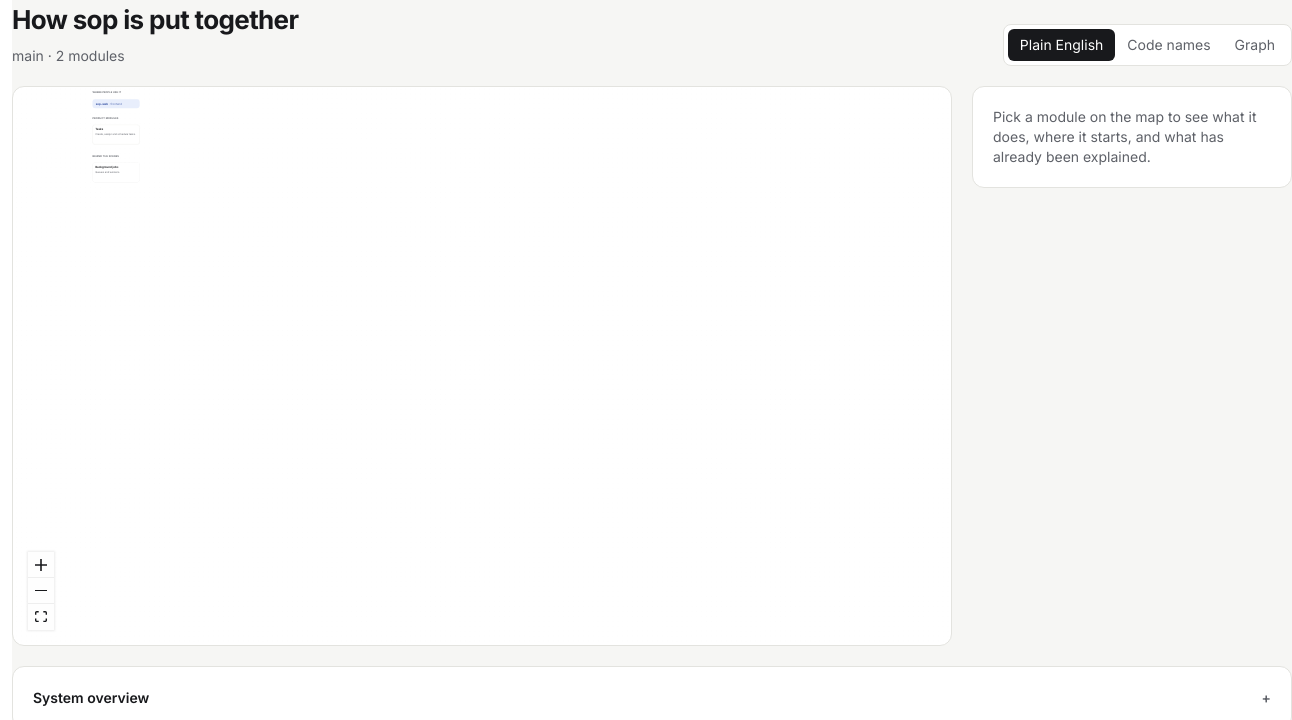
Scenario: title, subtitle and code-names toggle
Check: the heading "How sop is put together" is shown, box [12, 0, 298, 39]
Check: the text "main · 2 modules" is shown, box [12, 47, 125, 64]
Click the radio button labelled "Code names" at [1169, 45], box [1115, 29, 1223, 61]
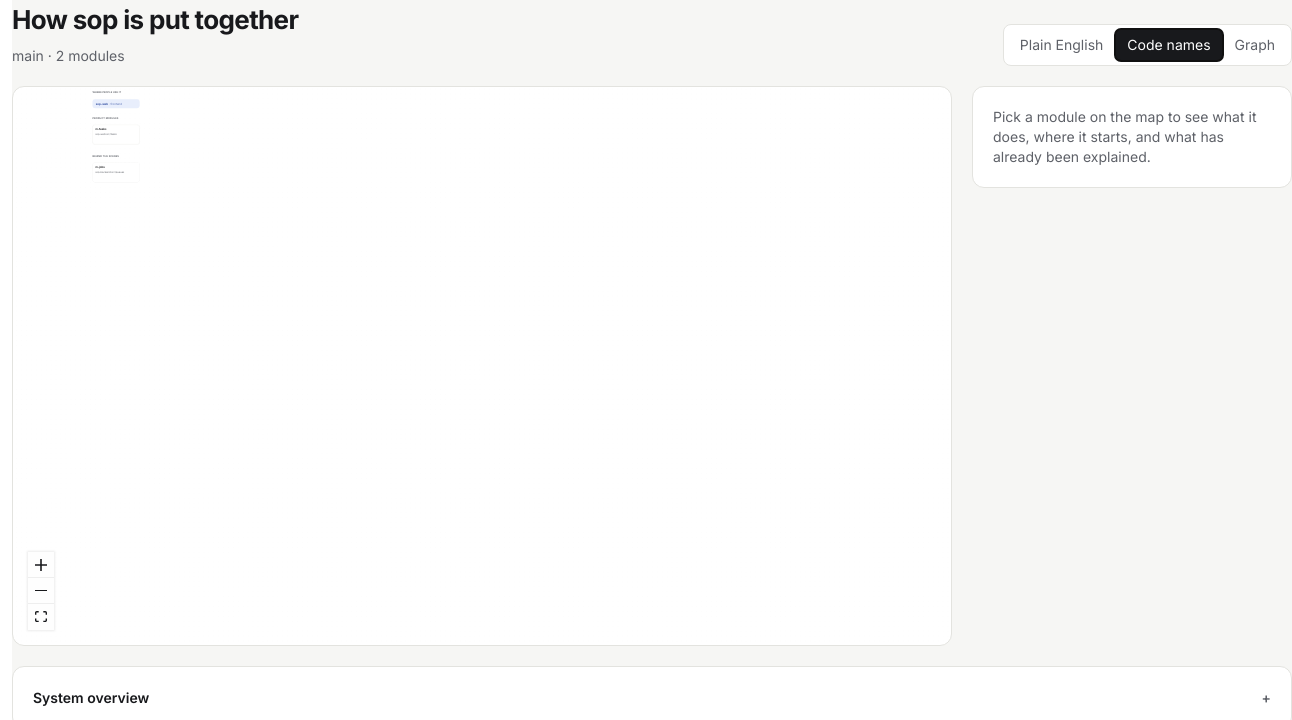
Check: the text "sop-web:src/tasks" is shown, box [95, 132, 117, 136]
Check: the text "m-tasks" is shown, box [95, 127, 106, 131]
